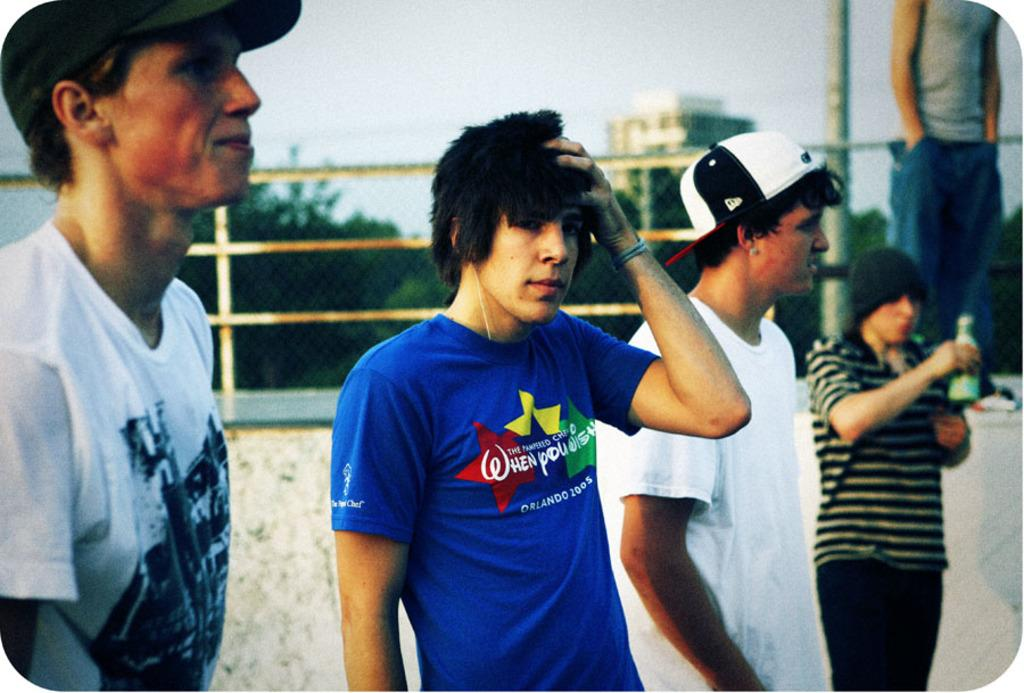Hat: (0, 0, 302, 142), (664, 128, 837, 270)
